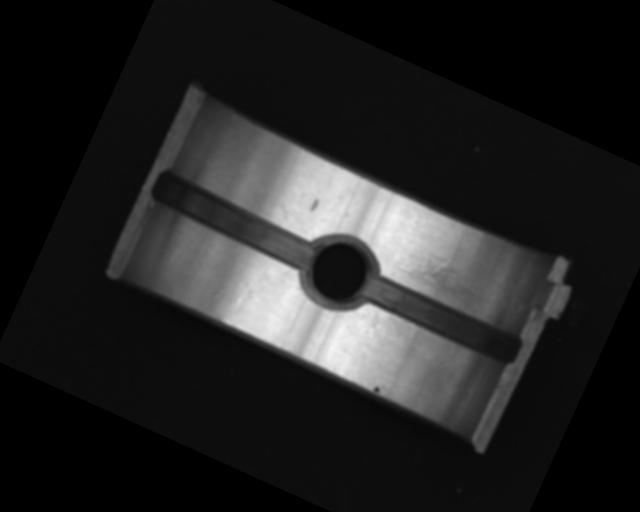blot: (372, 383, 384, 395)
bruise: (308, 197, 321, 214)
gap: (147, 166, 324, 274), (359, 269, 524, 368)
hole: (292, 227, 386, 321)
nick: (235, 252, 270, 309)
scratch: (391, 241, 498, 314)
